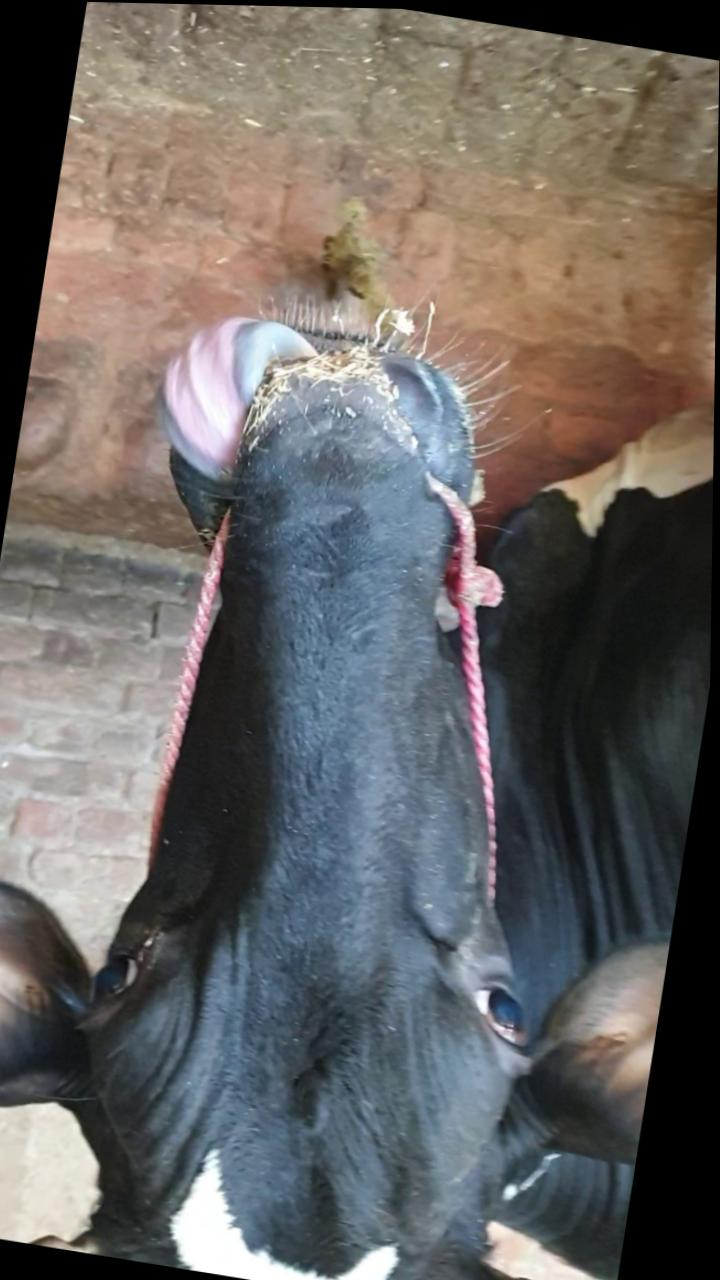cows: (0, 283, 717, 1280)
